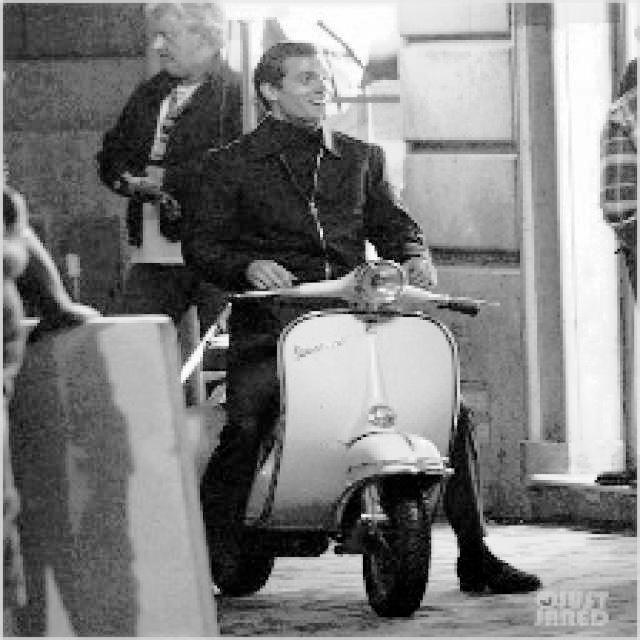Bike: (239, 273, 477, 631)
